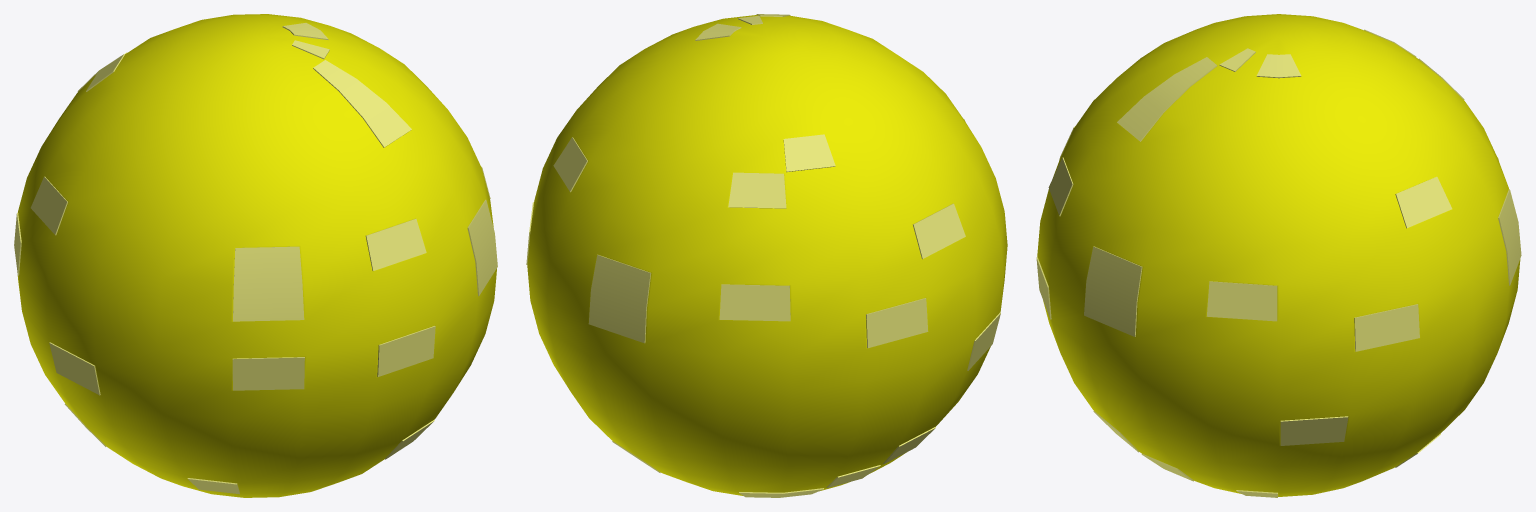
Rendered from Inner_Core_Icon_v01.fbx.
3 views of the same model, side by side, from view 1: azimuth 30°, elevation 25°; view 2: azimuth 150°, elevation 25°; view 3: azimuth 270°, elevation 25° (orthographic).
Visible parts, largest first — view 1: Inner_Core_2; view 2: Inner_Core_2; view 3: Inner_Core_2.
Part boxes in pixels (x1=…): Inner_Core_2: x1=14, y1=14, x2=497, y2=497; Inner_Core_2: x1=526, y1=14, x2=1007, y2=497; Inner_Core_2: x1=1036, y1=14, x2=1521, y2=497.
Bounding box in the file's own units: 2 × 2 × 2.01.
